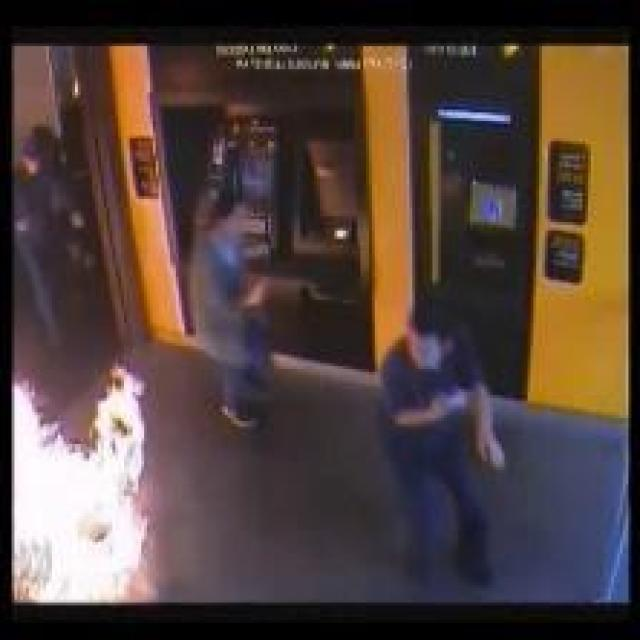smoke: (11, 348, 150, 602)
